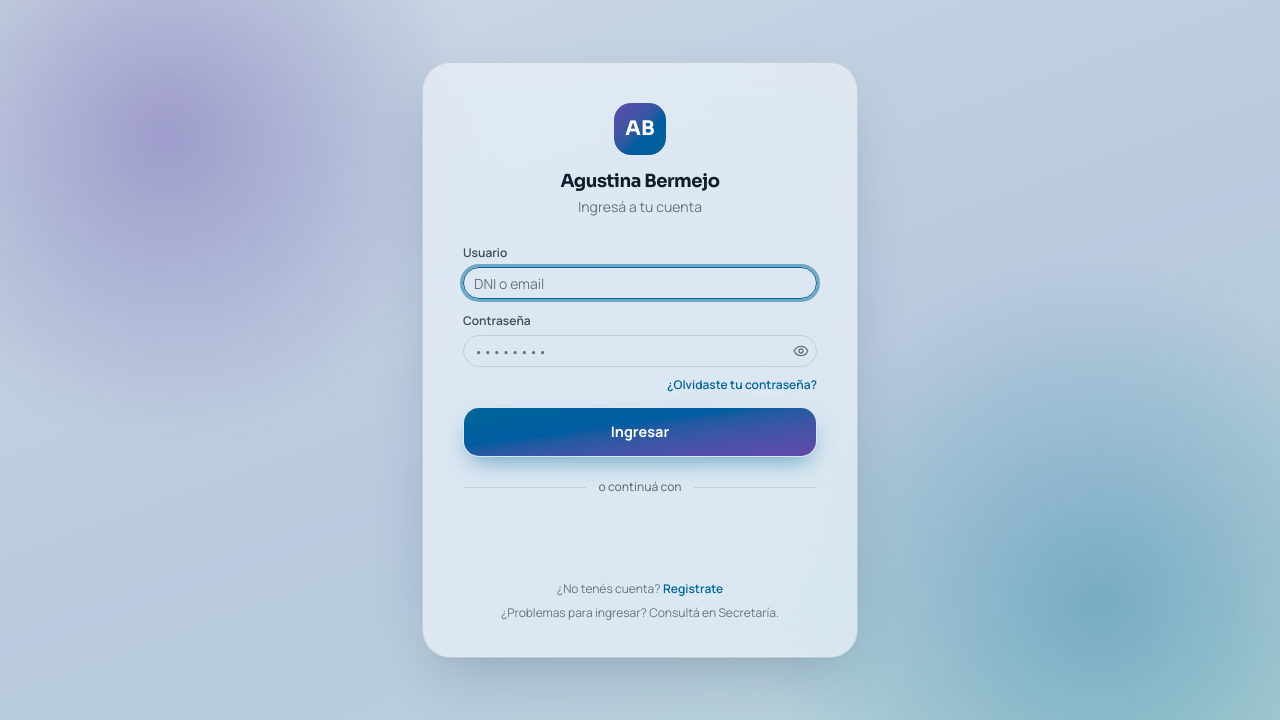
Test case: Login › con credenciales válidas, deshabilita el botón mientras envía
In the field with placeholder "DNI o email": (640, 283) [463,267,817,299], type "prueba.login"
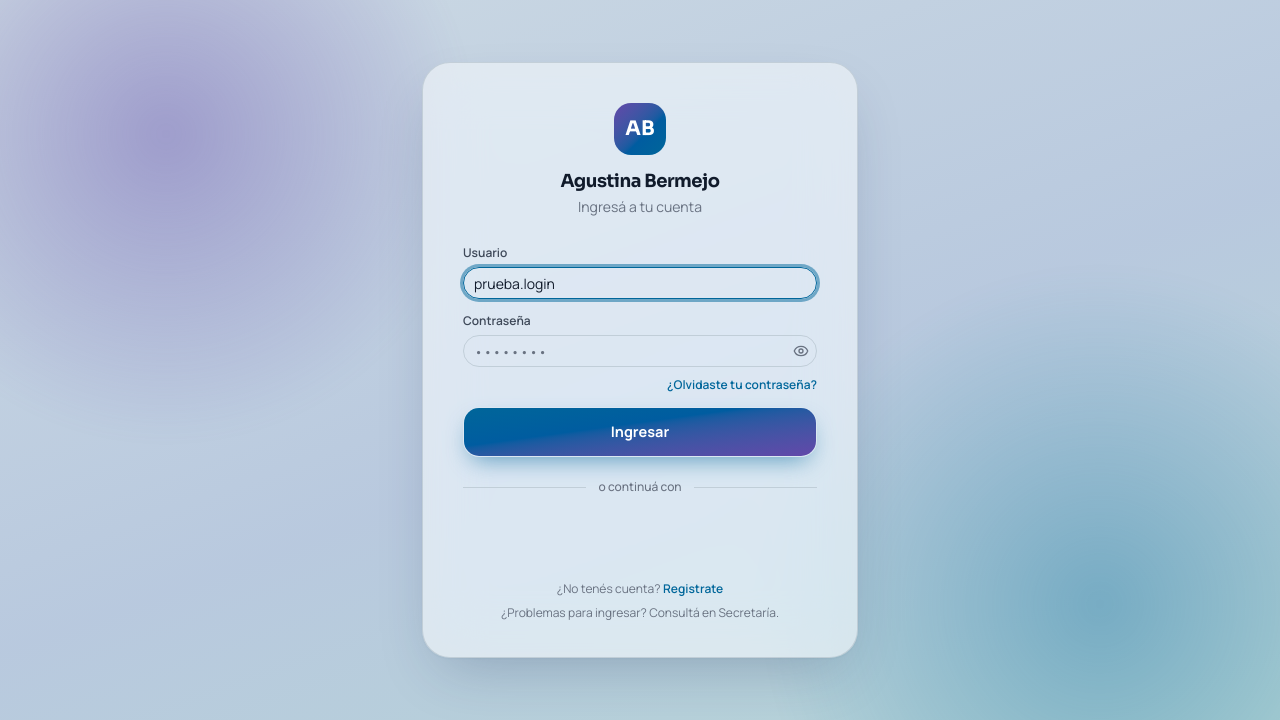
In the password field with placeholder "••••••••": (640, 351) [463,335,817,367], type "Test1234"
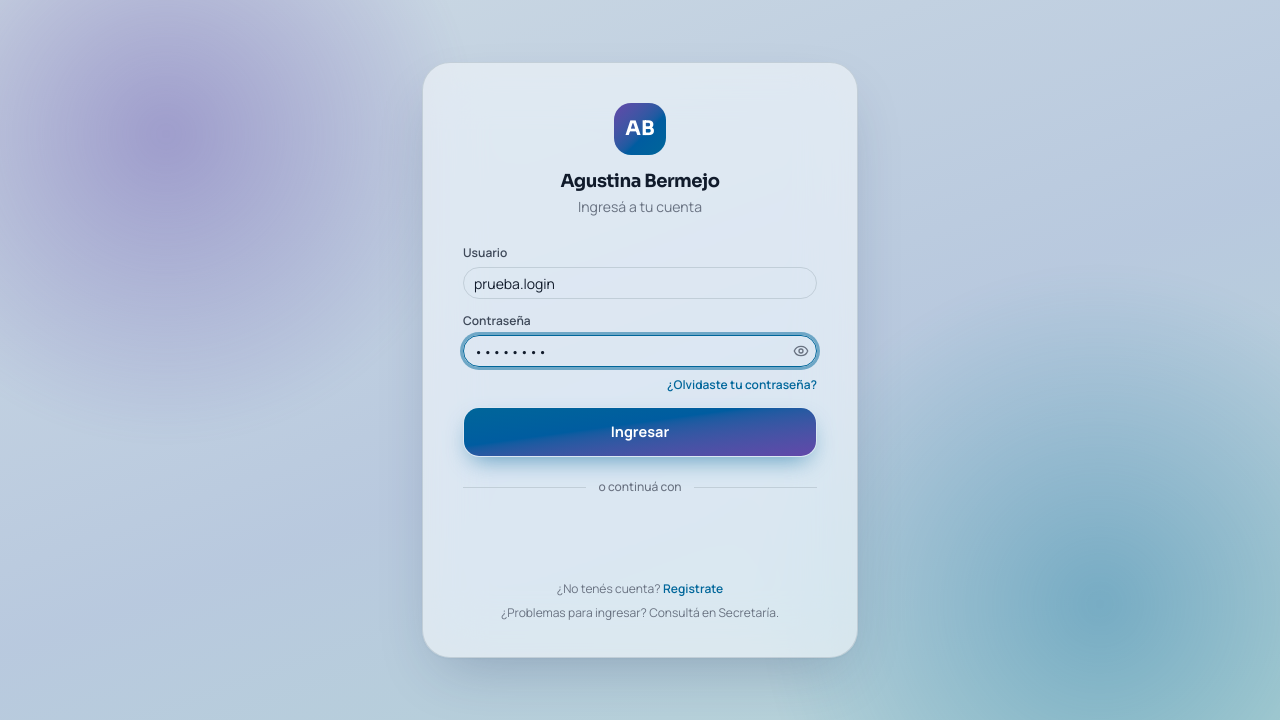
Click the button "Ingresar": (640, 432) [463,407,817,457]
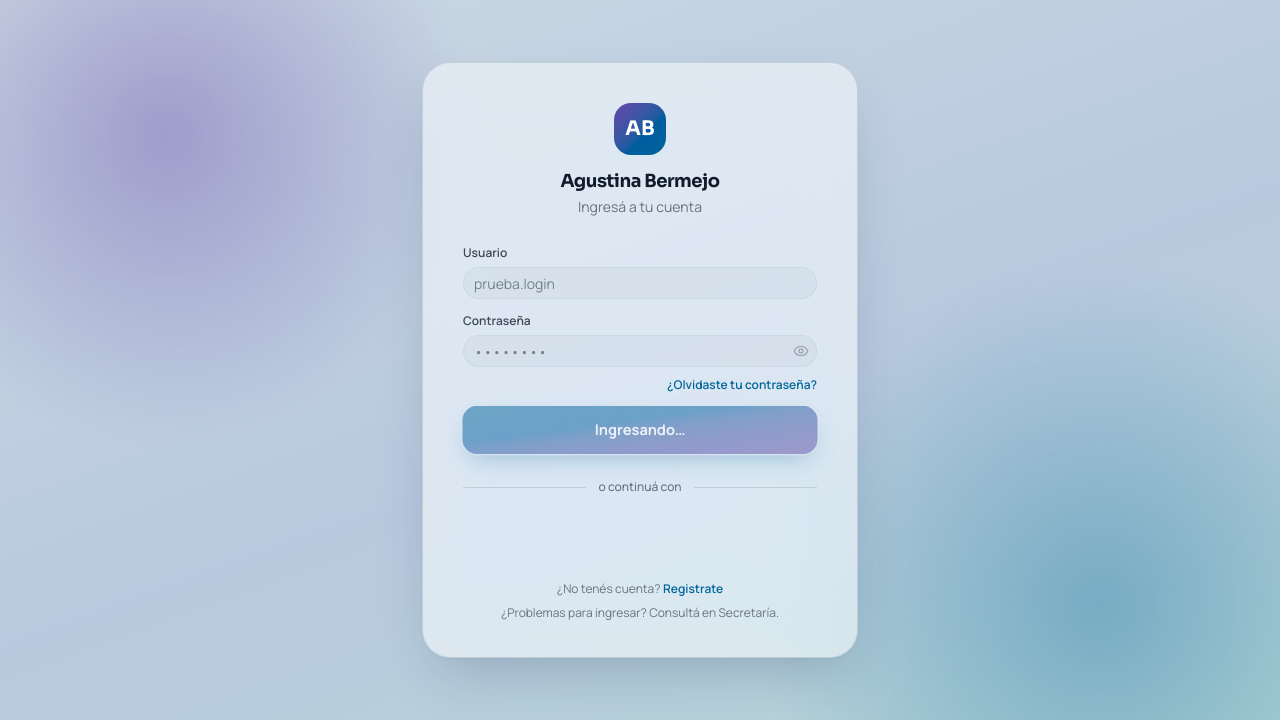
Expected: the button "Ingresando…" is disabled, [461,405,819,455]
